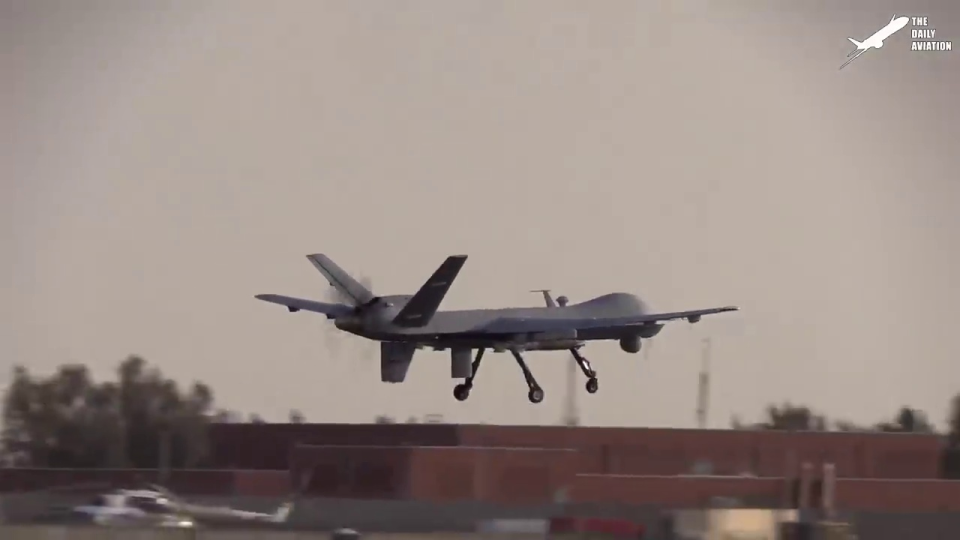military drone: (253, 252, 741, 403)
